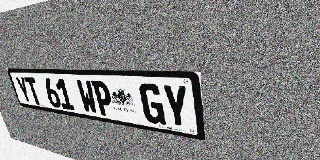1: (54, 78, 75, 111)
6: (42, 78, 62, 109)
G: (138, 83, 166, 125)
P: (91, 80, 115, 117)
T: (24, 77, 43, 105)
W: (76, 80, 99, 114)
Y: (161, 84, 191, 129), (15, 76, 33, 104)
